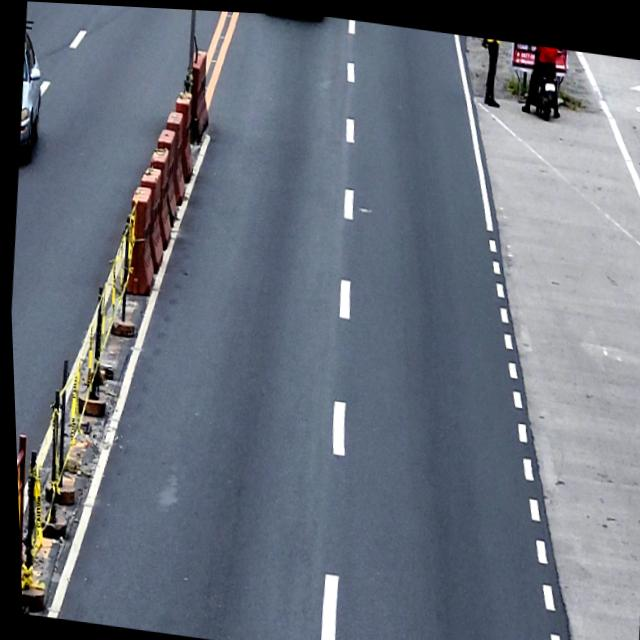Car: (14, 28, 47, 162)
License-Plate: (544, 77, 555, 86)
Motorcycle: (523, 38, 571, 117)
